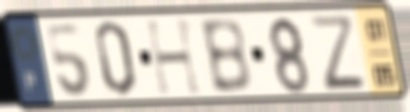0: (93, 18, 140, 100)
5: (43, 20, 93, 100)
8: (265, 12, 311, 96)
B: (196, 15, 255, 96)
H: (142, 15, 206, 98)
Z: (305, 12, 369, 93)
